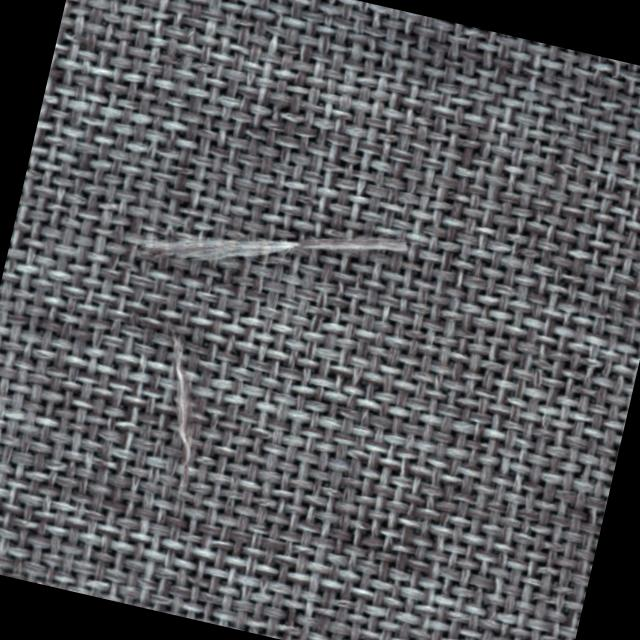Thread: (129, 177, 412, 316), (136, 316, 228, 468)
